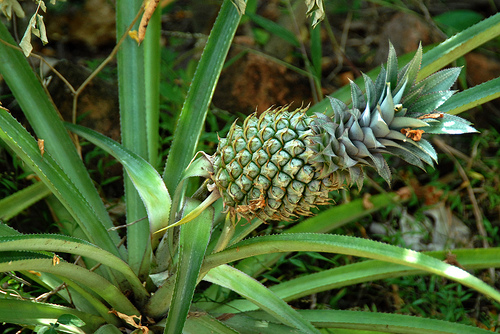pineapple: (198, 38, 477, 225)
